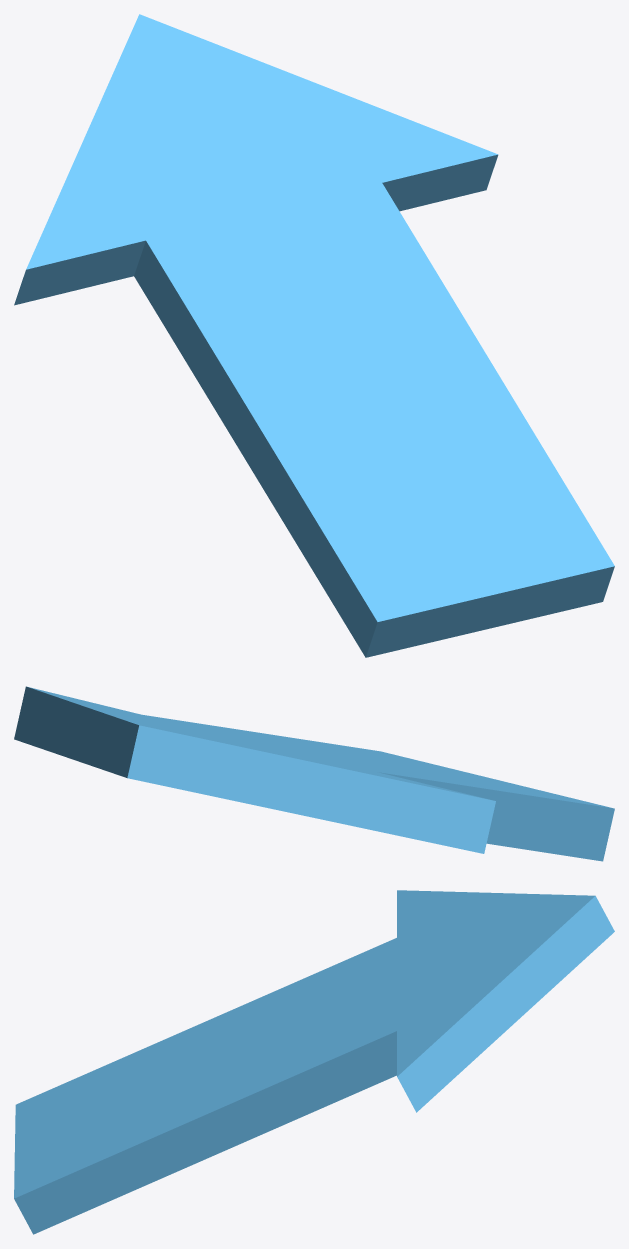
File: Arrow.gltf
The picture shows the model from 3 angles, top to bottom: view 1: azimuth 30°, elevation 25°; view 2: azimuth 150°, elevation 25°; view 3: azimuth 270°, elevation 25°; orthographic projection. The views are drawn at different scales.
Parts seen in each view (by area): view 1: Arrow; view 2: Arrow; view 3: Arrow.
Part boxes in pixels (left/top/right/bottom): Arrow: left=14, top=14, right=614, bottom=657; Arrow: left=14, top=686, right=614, bottom=861; Arrow: left=14, top=890, right=614, bottom=1234.
Bounding box in the file's own units: 5 × 3.66 × 6.8.
